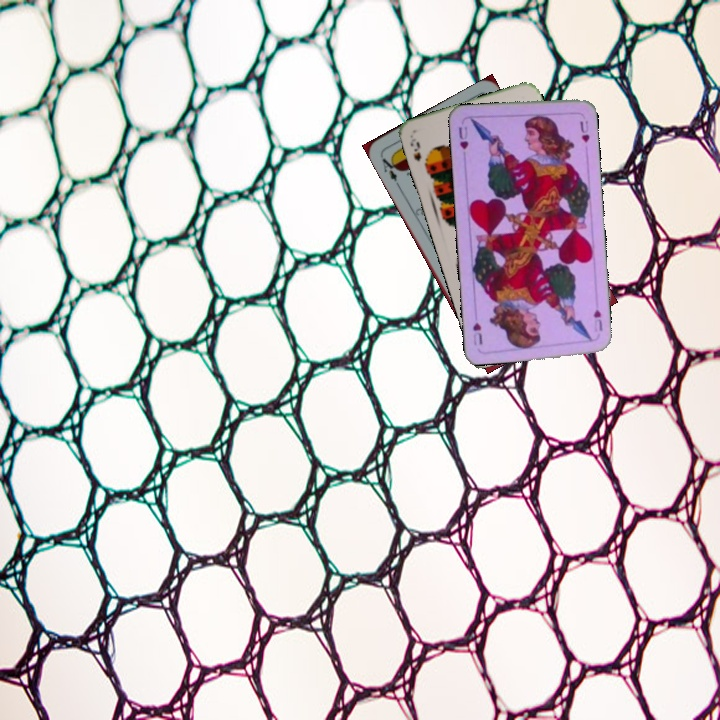EA: (377, 152, 402, 189)
HU: (454, 123, 471, 152), (590, 305, 605, 334)
S9: (409, 137, 432, 172)
